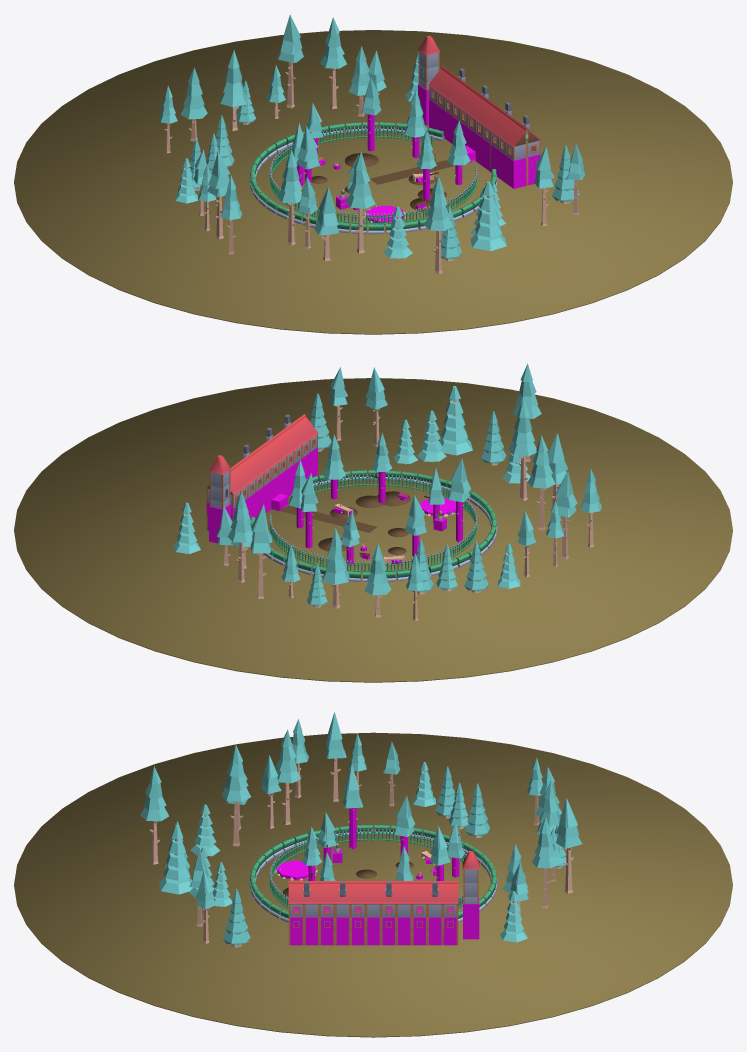
File: orfanato.glb
3 views of the same model, one above another, from view 1: azimuth 30°, elevation 25°; view 2: azimuth 150°, elevation 25°; view 3: azimuth 270°, elevation 25° (orthographic).
Visible parts, largest first — view 1: GROUND_grass, OCC_KEN_house_manor, static_colormap_town, COL_box_manor, static_colormap_graveyard, KEN_tree_pineRoundA_240, KEN_tree_pineTallD_detailed_267, KEN_tree_pineTallD_detailed_269, KEN_tree_pineTallD_detailed_264, KEN_tree_pineTallB_detailed_250, KEN_tree_pineTallC_detailed_253, KEN_tree_pineTallD_detailed_249 (+19 smaller); view 2: GROUND_grass, OCC_KEN_house_manor, static_colormap_town, static_colormap_graveyard, COL_box_manor, KEN_tree_pineRoundA_240, KEN_tree_pineTallD_detailed_267, KEN_tree_pineTallD_detailed_264, KEN_tree_pineTallC_detailed_253, OCC_KEN_tower_orfanato, KEN_tree_pineTallD_detailed_249, KEN_tree_pineTallB_detailed_250 (+23 smaller); view 3: GROUND_grass, OCC_KEN_house_manor, COL_box_manor, static_colormap_town, static_colormap_graveyard, KEN_tree_pineRoundA_240, KEN_tree_pineTallD_detailed_267, KEN_tree_pineTallD_detailed_269, KEN_tree_pineTallB_detailed_250, KEN_tree_pineTallD_detailed_264, KEN_tree_pineTallD_detailed_249, KEN_tree_pineRoundC_245 (+16 smaller).
Boxes of the visible parts, <box> form: GROUND_grass: <box>14,30,732,334</box>; OCC_KEN_house_manor: <box>428,66,540,185</box>; static_colormap_town: <box>249,68,529,234</box>; COL_box_manor: <box>429,98,540,188</box>; static_colormap_graveyard: <box>269,126,477,225</box>; KEN_tree_pineRoundA_240: <box>470,181,506,251</box>; KEN_tree_pineTallD_detailed_267: <box>346,151,375,253</box>; KEN_tree_pineTallD_detailed_269: <box>424,176,452,274</box>; KEN_tree_pineTallD_detailed_264: <box>277,149,301,245</box>; KEN_tree_pineTallB_detailed_250: <box>277,14,303,108</box>; KEN_tree_pineTallC_detailed_253: <box>220,50,247,131</box>; KEN_tree_pineTallD_detailed_249: <box>320,17,346,109</box>; GROUND_grass: <box>14,378,732,682</box>; OCC_KEN_house_manor: <box>206,414,318,530</box>; static_colormap_town: <box>243,414,497,582</box>; static_colormap_graveyard: <box>269,474,477,573</box>; COL_box_manor: <box>206,446,317,530</box>; KEN_tree_pineRoundA_240: <box>439,386,472,455</box>; KEN_tree_pineTallD_detailed_267: <box>508,399,536,501</box>; KEN_tree_pineTallD_detailed_264: <box>528,435,555,530</box>; KEN_tree_pineTallC_detailed_253: <box>322,528,349,608</box>; OCC_KEN_tower_orfanato: <box>209,455,230,509</box>; KEN_tree_pineTallD_detailed_249: <box>227,491,252,583</box>; KEN_tree_pineTallB_detailed_250: <box>250,504,272,598</box>; GROUND_grass: <box>14,732,732,1037</box>; OCC_KEN_house_manor: <box>288,881,458,945</box>; COL_box_manor: <box>290,907,456,945</box>; static_colormap_town: <box>249,825,497,922</box>; static_colormap_graveyard: <box>269,829,466,908</box>; KEN_tree_pineRoundA_240: <box>159,825,193,894</box>; KEN_tree_pineTallD_detailed_267: <box>221,744,250,846</box>; KEN_tree_pineTallD_detailed_269: <box>140,766,168,864</box>; KEN_tree_pineTallB_detailed_250: <box>556,797,582,893</box>; KEN_tree_pineTallD_detailed_264: <box>276,729,300,824</box>; KEN_tree_pineTallD_detailed_249: <box>532,817,558,908</box>; KEN_tree_pineRoundC_245: <box>223,889,250,947</box>.
Size of the model in its own units: 140 by 29.18 by 140.
19 materials, 2 textured.
